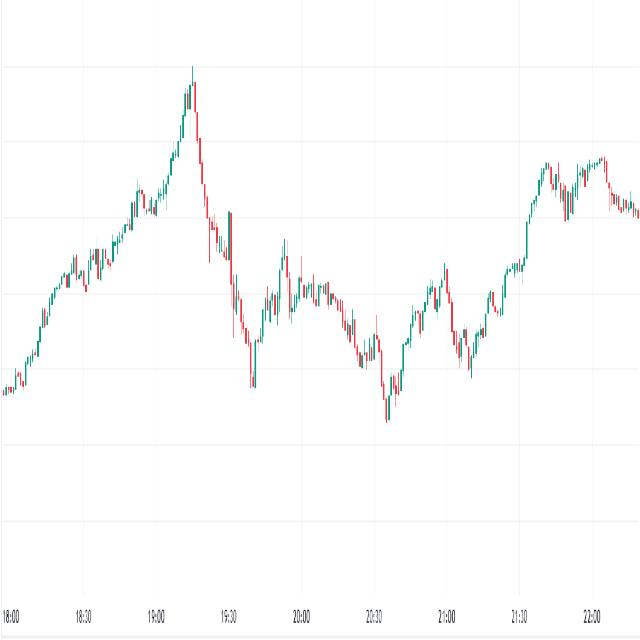Head-Shoulders: (122, 60, 249, 345)
